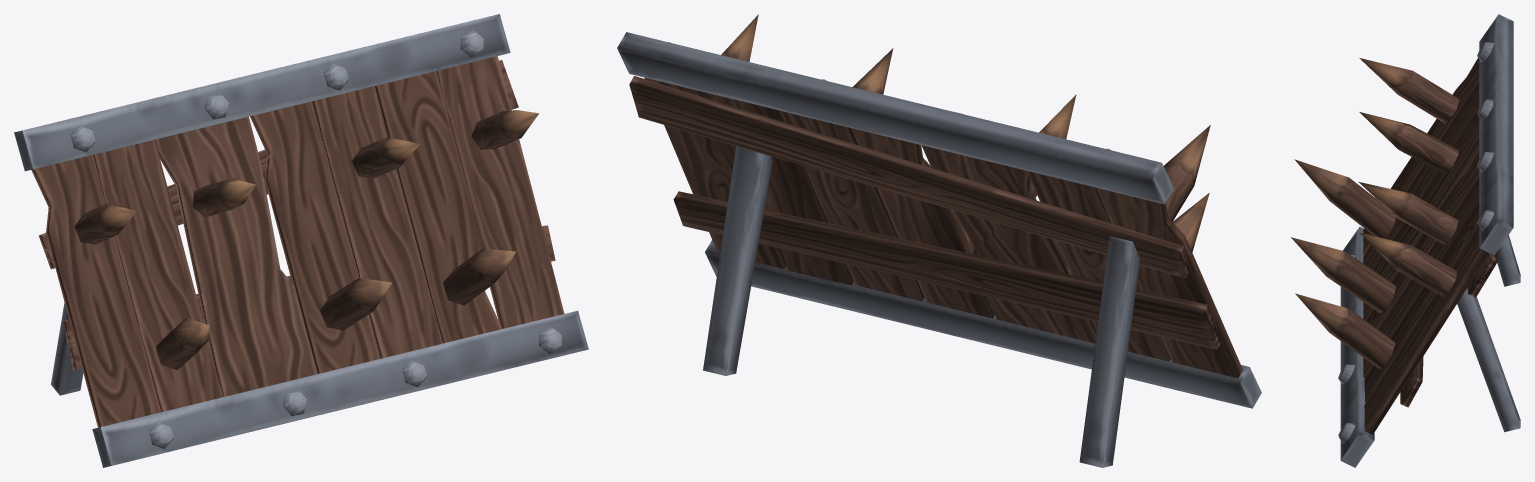
The model's file is env_BarricadeNormal.fbx.
The picture shows the model from 3 angles, left to right: view 1: azimuth 30°, elevation 25°; view 2: azimuth 150°, elevation 25°; view 3: azimuth 270°, elevation 25°; orthographic projection. The views are drawn at different scales.
Parts seen in each view (by area): view 1: env_BarricadeNormal; view 2: env_BarricadeNormal; view 3: env_BarricadeNormal.
Part boxes in pixels (x1=…): env_BarricadeNormal: x1=14, y1=14, x2=588, y2=467; env_BarricadeNormal: x1=617, y1=14, x2=1261, y2=467; env_BarricadeNormal: x1=1291, y1=14, x2=1520, y2=467.
Size of the model in its own units: 194 by 108 by 90.68.
